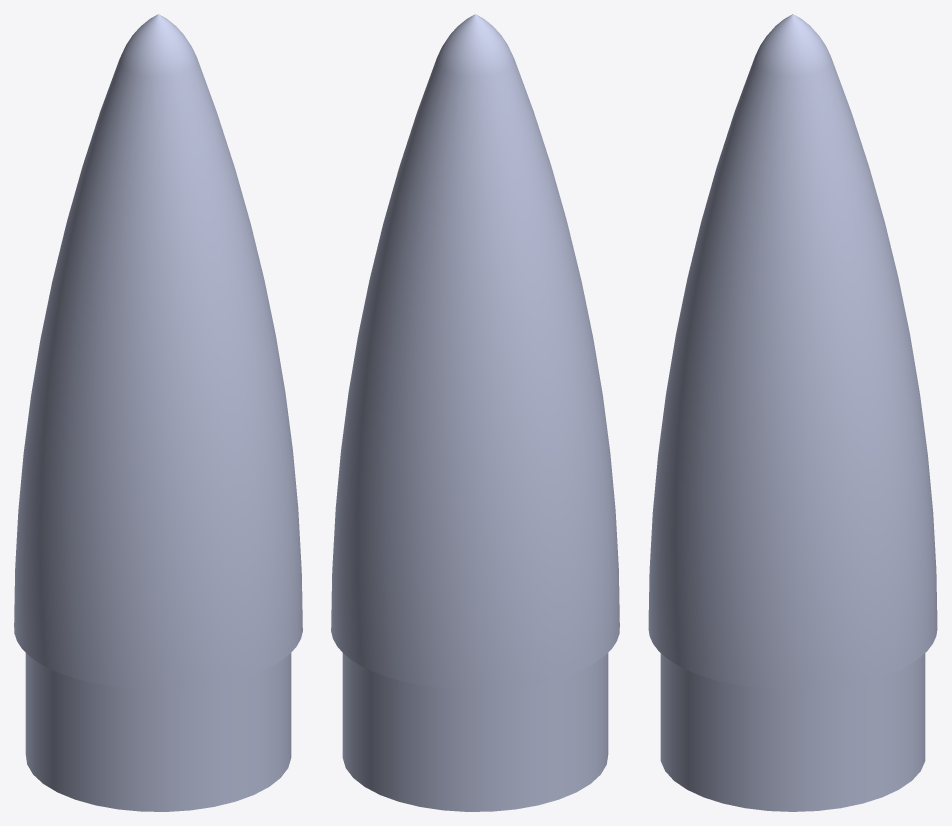
The model's file is nosecone_.obj.
The picture shows the model from 3 angles, left to right: view 1: azimuth 30°, elevation 25°; view 2: azimuth 150°, elevation 25°; view 3: azimuth 270°, elevation 25°; orthographic projection.
Parts seen in each view (by area): view 1: mesh_1_no; view 2: mesh_1_no; view 3: mesh_1_no.
Part boxes in pixels (left/top/right/bottom): mesh_1_no: left=14, top=14, right=302, bottom=811; mesh_1_no: left=331, top=14, right=619, bottom=811; mesh_1_no: left=648, top=14, right=937, bottom=811.
Bounding box in the file's own units: 0.1406 × 0.3985 × 0.1407.
